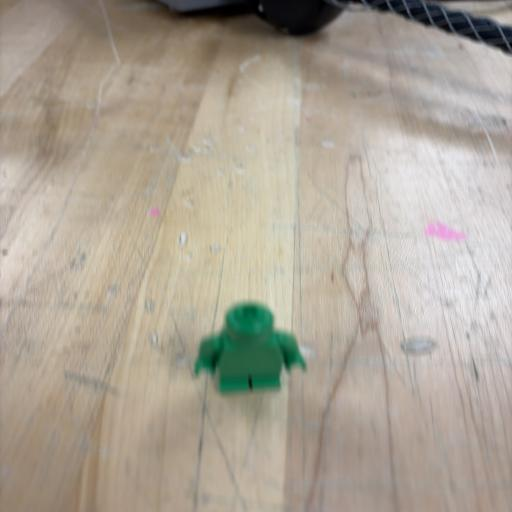Green-Lego: (195, 303, 306, 392)
